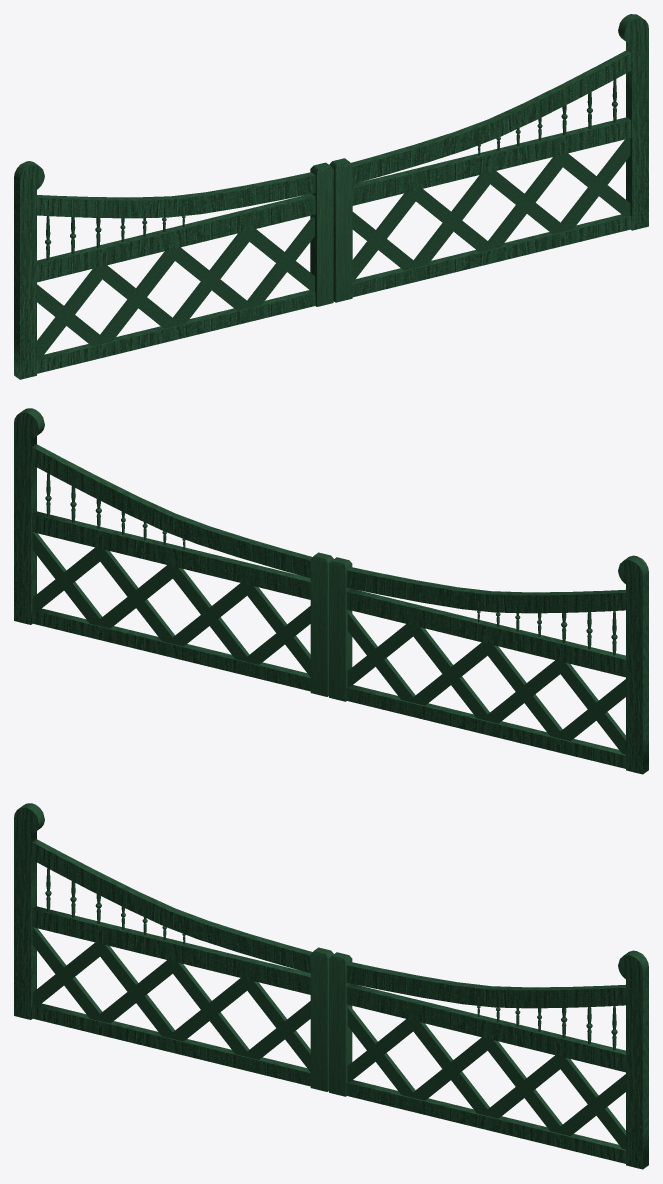
The model's file is victorian_gate.glb.
3 views of the same model, one above another, from view 1: azimuth 30°, elevation 25°; view 2: azimuth 150°, elevation 25°; view 3: azimuth 330°, elevation 25° (orthographic).
Visible parts, largest first — view 1: Object_3, Object_2; view 2: Object_3, Object_2; view 3: Object_3, Object_2.
Part boxes in pixels (left/top/right/bottom): Object_3: left=14, top=14, right=648, bottom=379; Object_2: left=37, top=79, right=630, bottom=359; Object_3: left=14, top=408, right=648, bottom=774; Object_2: left=32, top=473, right=625, bottom=754; Object_3: left=14, top=803, right=648, bottom=1169; Object_2: left=32, top=868, right=625, bottom=1149.
Bounding box in the file's own units: 596 × 191 × 11.14.
Materials: 2 (2 with a texture image).
